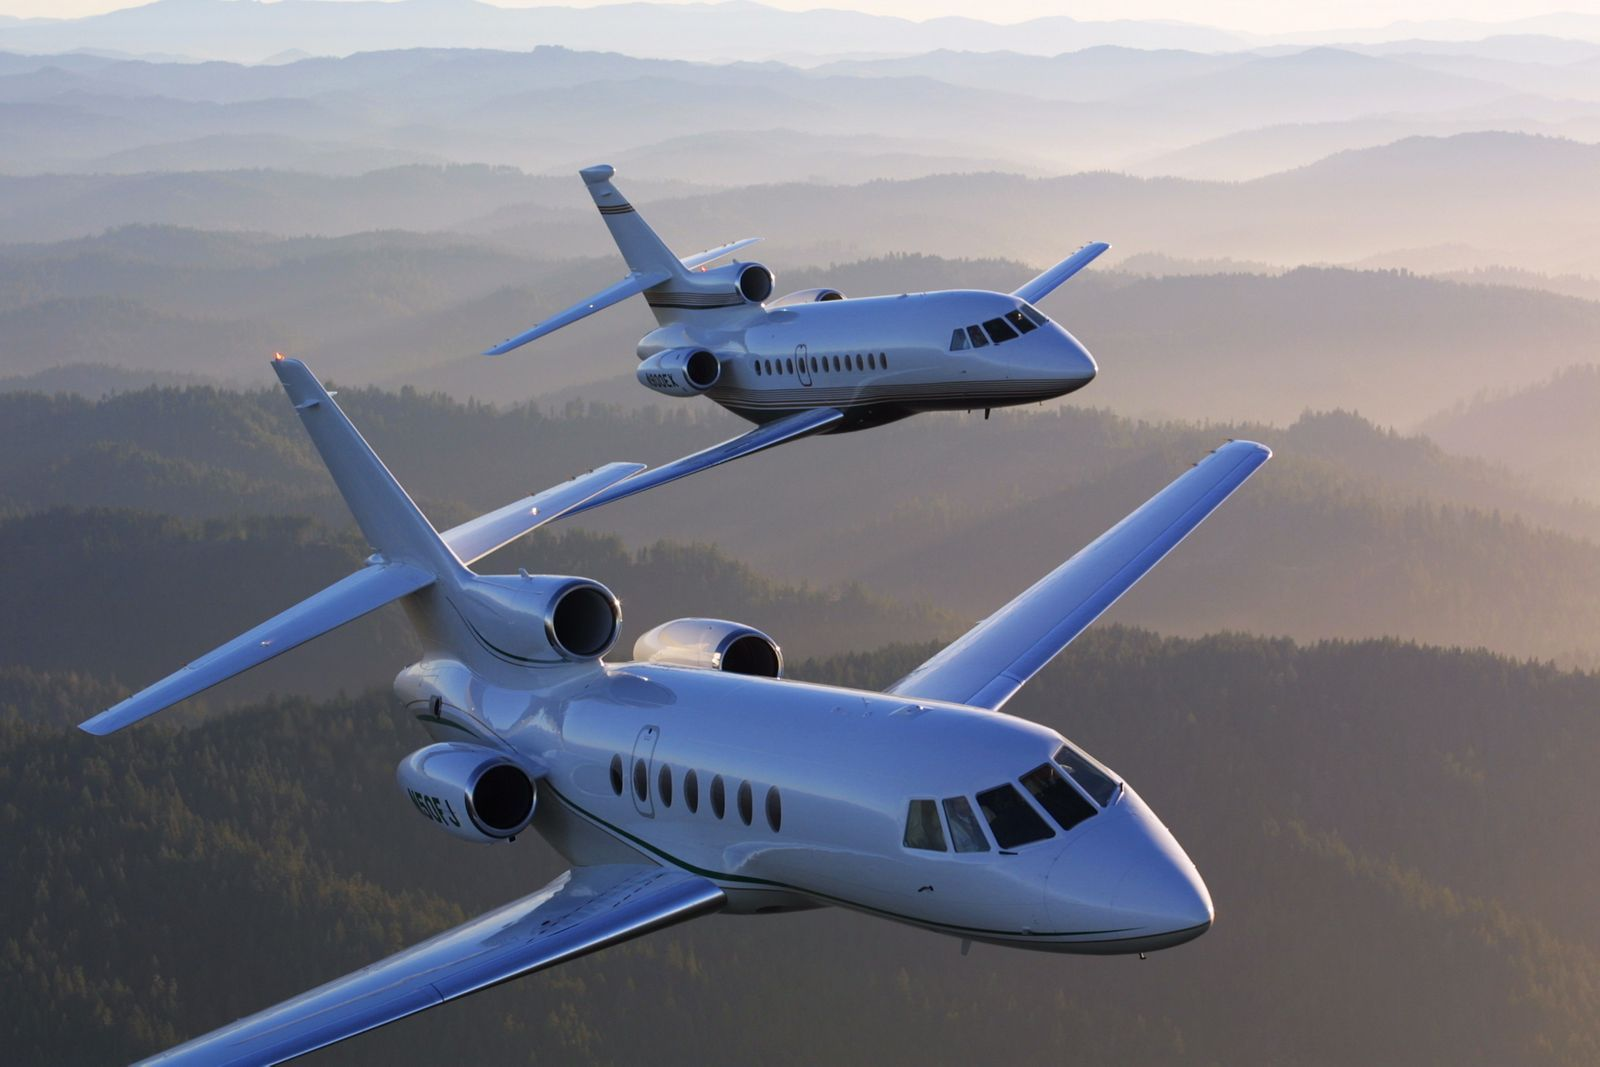Aeronef_commercial: (19, 344, 1285, 1067), (470, 146, 1121, 528)
